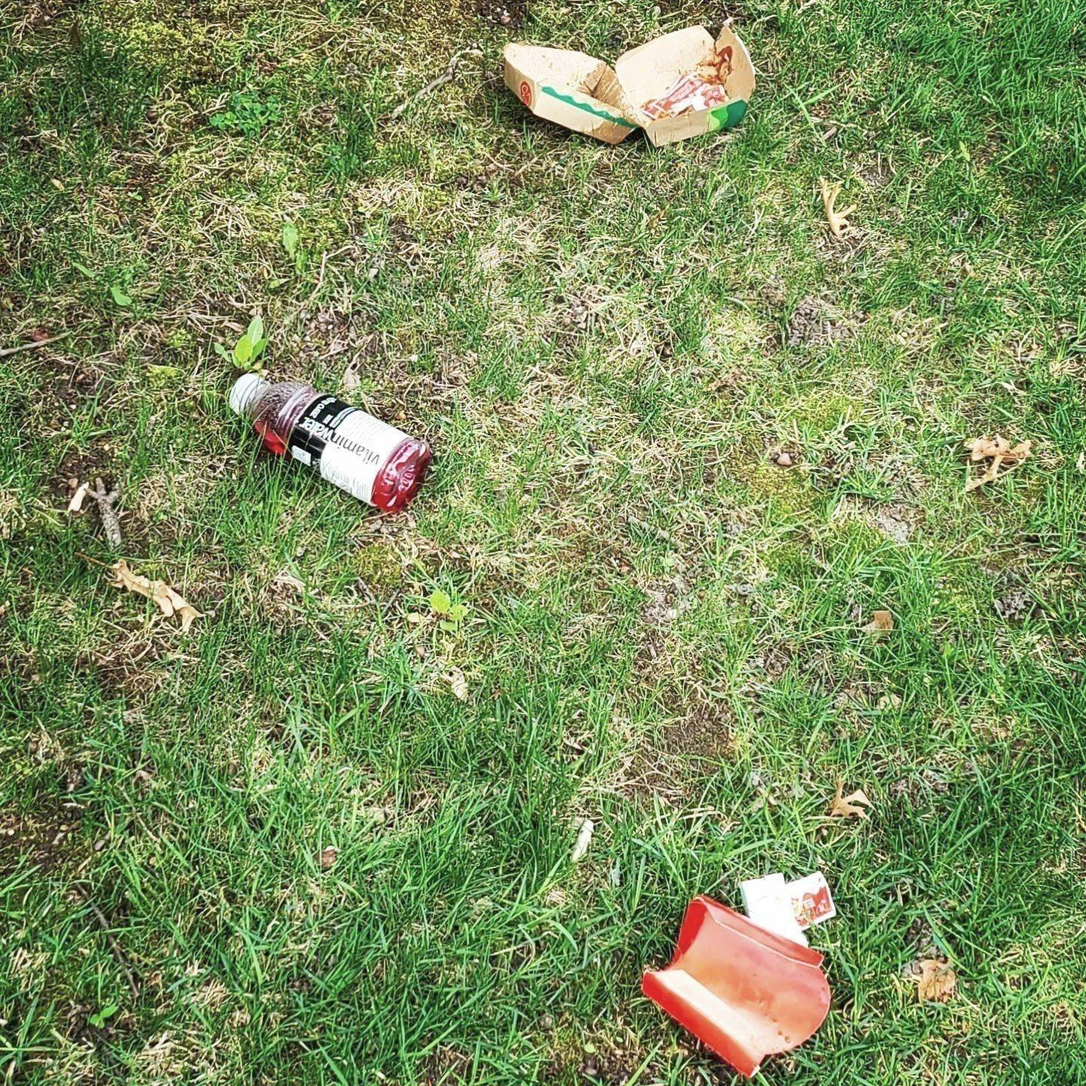bottle-plastic: (215, 361, 448, 529)
